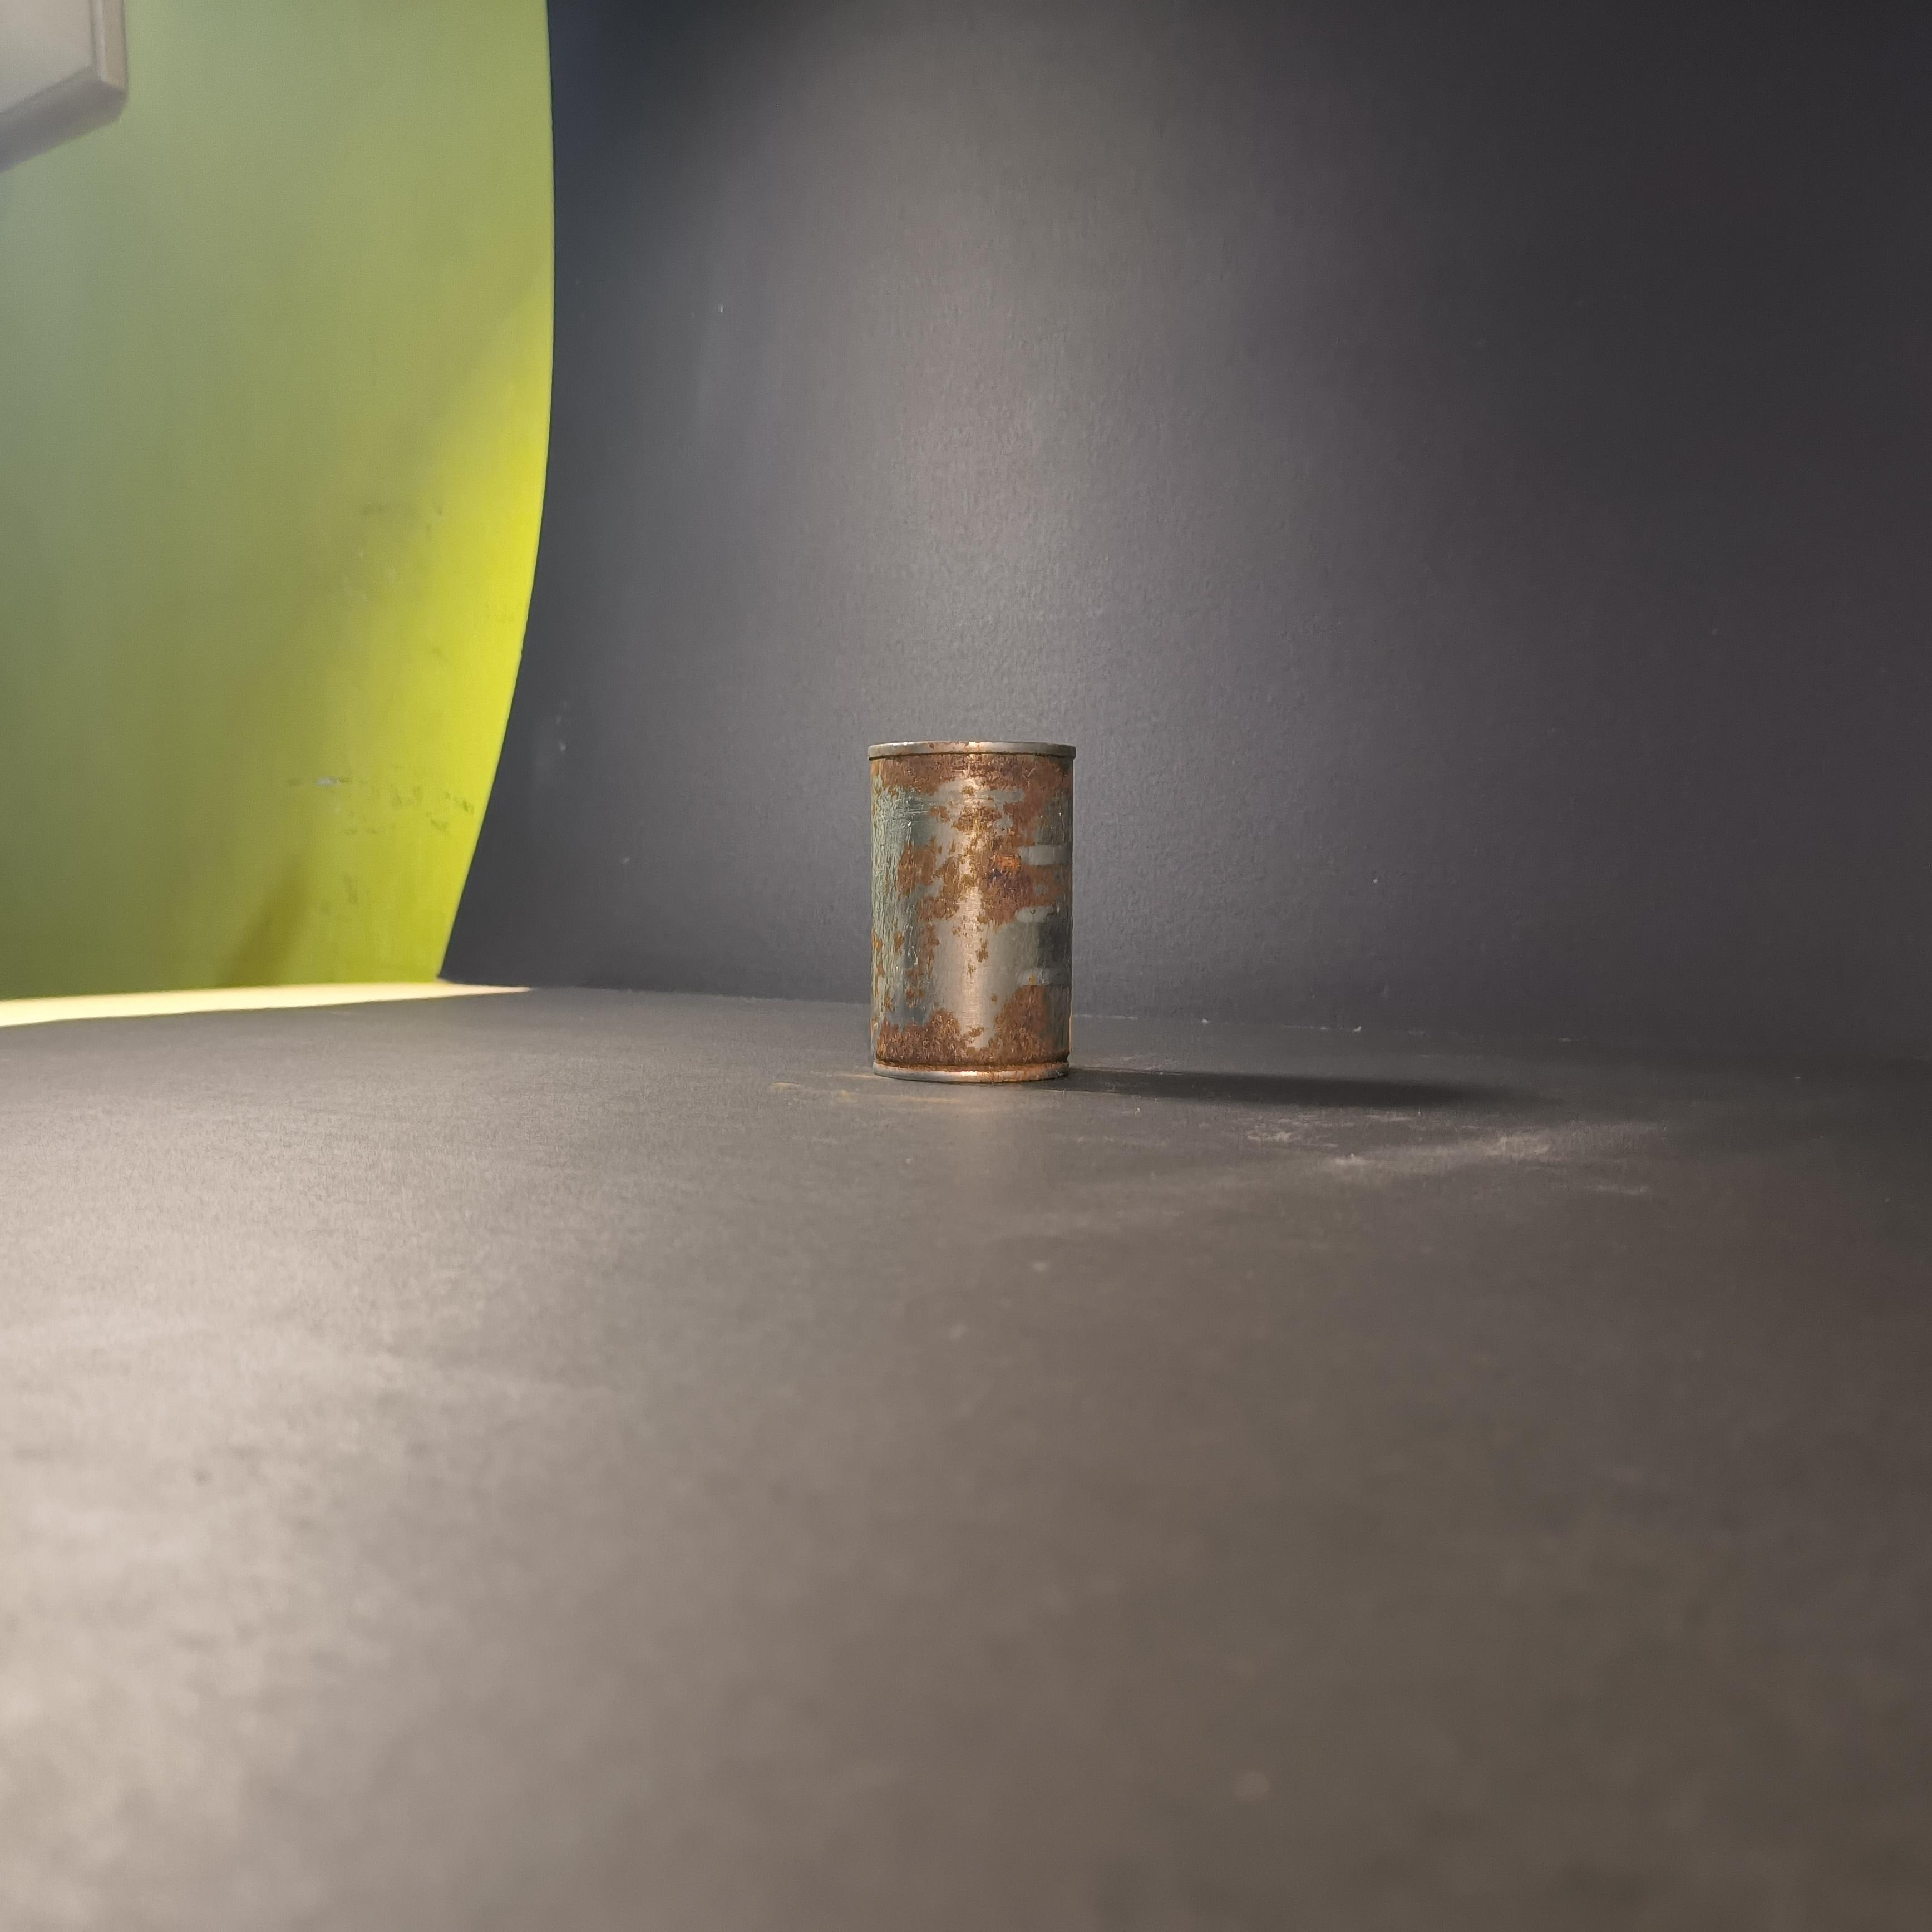Rusted: (849, 709, 1108, 1097)
